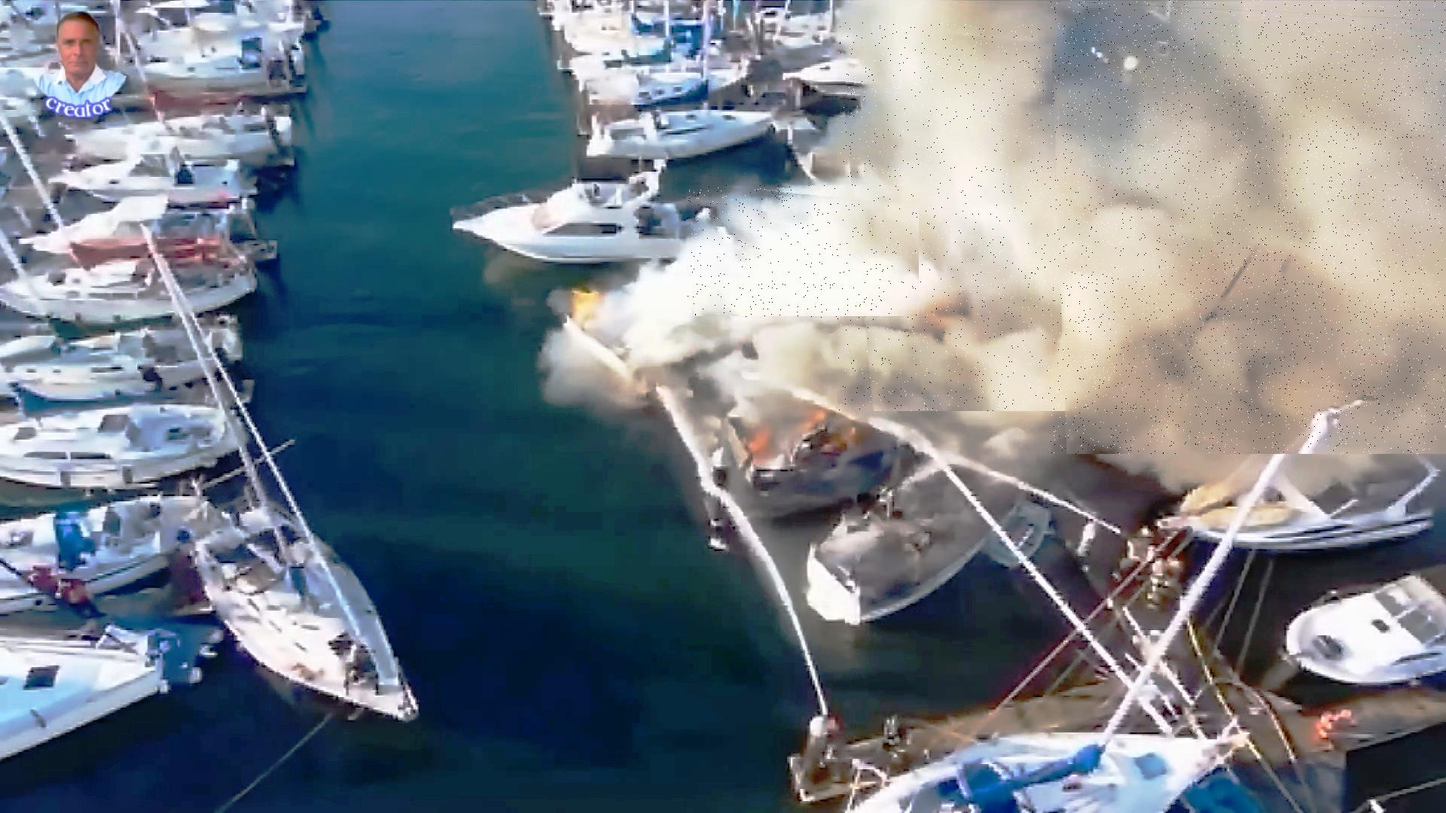smoke: (1050, 0, 1446, 454), (838, 23, 1084, 411), (686, 186, 919, 318)
